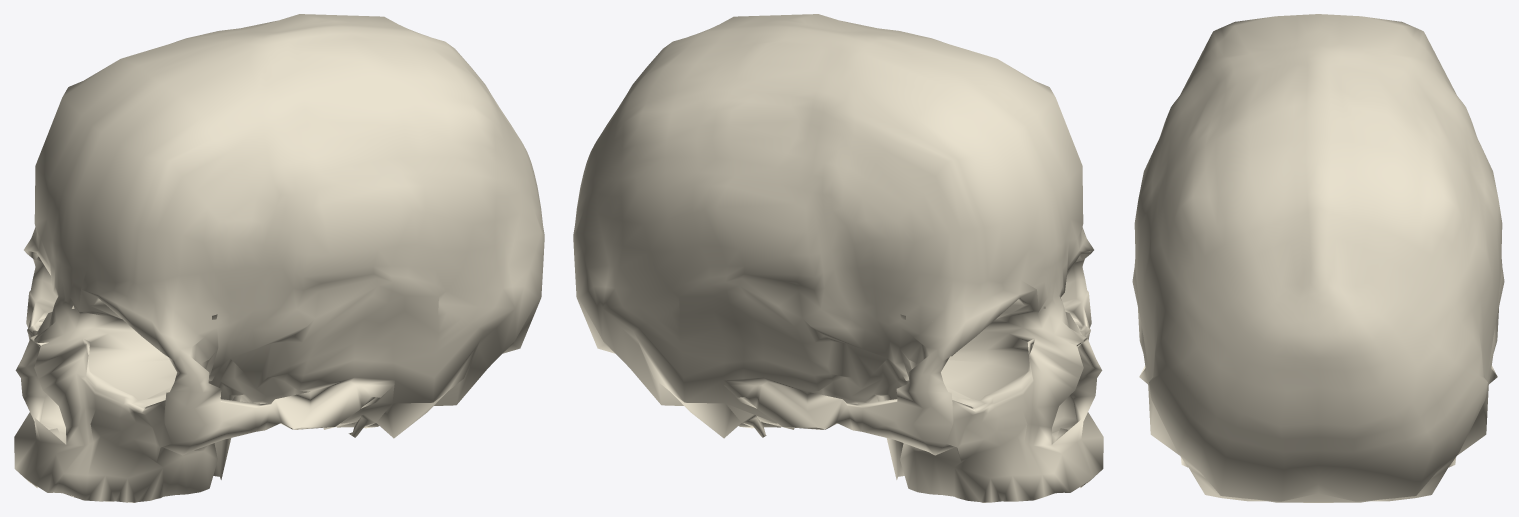
Rendered from Sapiens_Skull.fbx.
The picture shows the model from 3 angles, left to right: view 1: azimuth 30°, elevation 25°; view 2: azimuth 150°, elevation 25°; view 3: azimuth 270°, elevation 25°; orthographic projection. The views are drawn at different scales.
Visible parts, largest first — view 1: Sapiens_Skull; view 2: Sapiens_Skull; view 3: Sapiens_Skull.
Boxes of the visible parts, left/top/right/bottom form: Sapiens_Skull: left=14, top=14, right=544, bottom=502; Sapiens_Skull: left=573, top=14, right=1103, bottom=502; Sapiens_Skull: left=1132, top=14, right=1504, bottom=502.
Bounding box in the file's own units: 0.2242 × 0.1728 × 0.1429.
